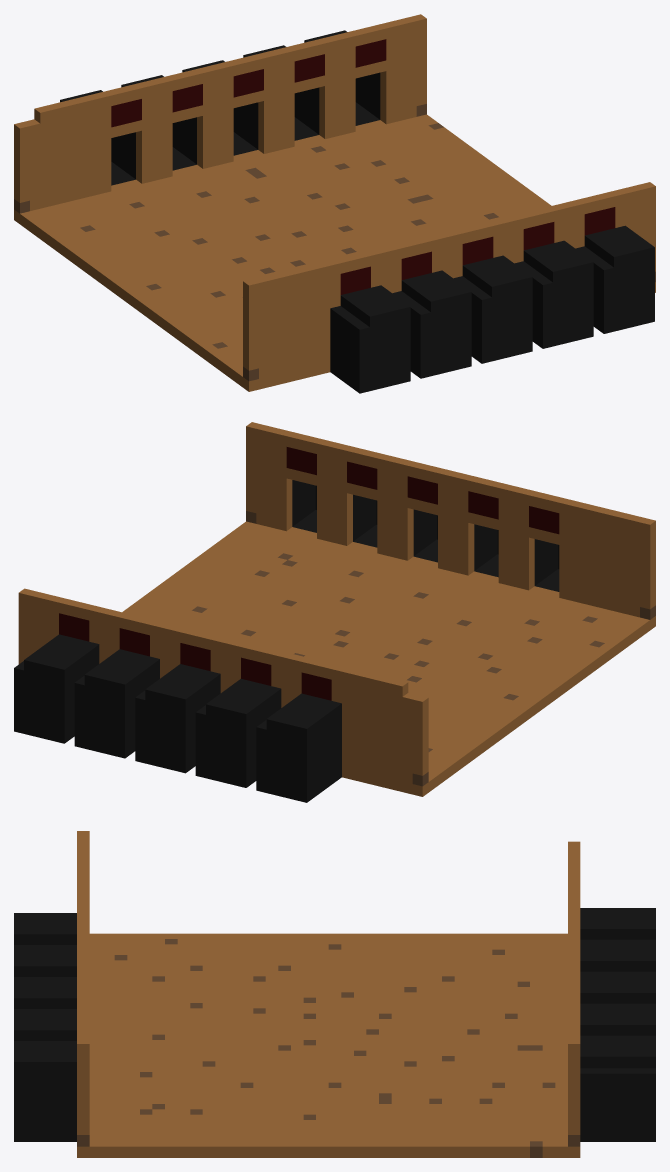
File: SelectRoomVeryBad.obj
3 views of the same model, one above another, from view 1: azimuth 30°, elevation 25°; view 2: azimuth 150°, elevation 25°; view 3: azimuth 270°, elevation 25° (orthographic). The views are drawn at different scales.
Size of the model in its own units: 4 by 1 by 5.1.
Materials: 1 (1 with a texture image).
